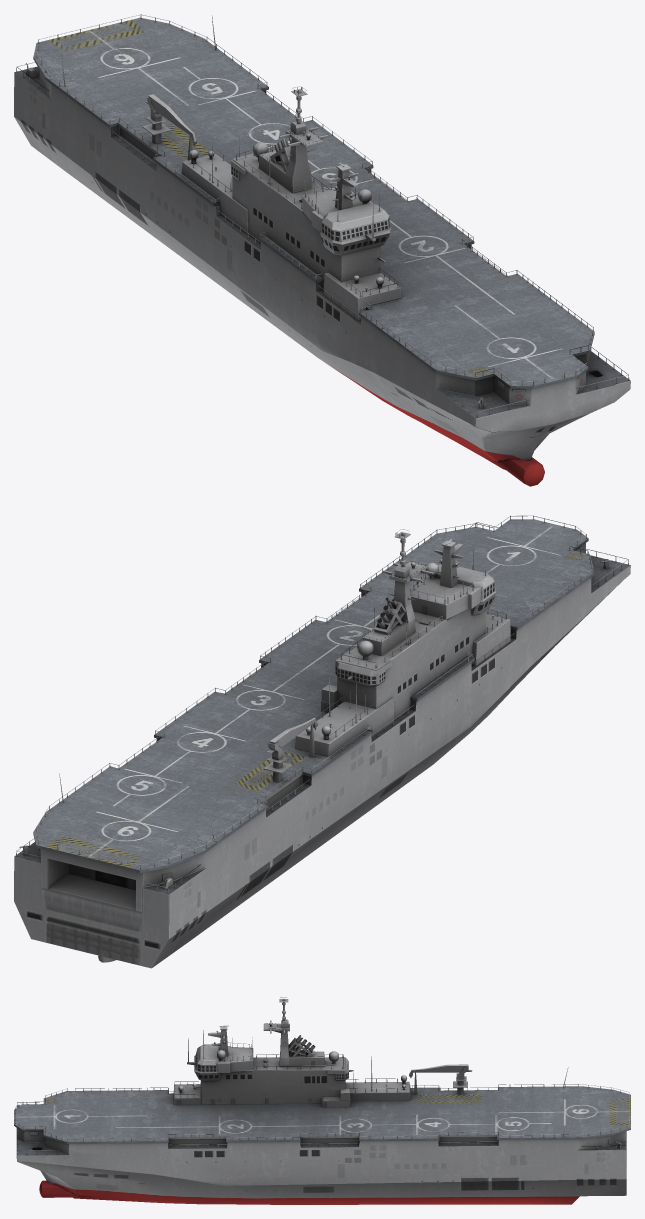
Rendered from mistral.glb.
The picture shows the model from 3 angles, top to bottom: view 1: azimuth 30°, elevation 25°; view 2: azimuth 150°, elevation 25°; view 3: azimuth 270°, elevation 25°; orthographic projection. The views are drawn at different scales.
Parts seen in each view (by area): view 1: Object_2; view 2: Object_2; view 3: Object_2.
Part boxes in pixels (x1,y1,x2,y2): Object_2: (14,14,630,486); Object_2: (14,515,630,968); Object_2: (14,997,630,1204).
Size of the model in its own units: 1.21 by 2 by 6.07.
Materials: 1 (1 with a texture image).
